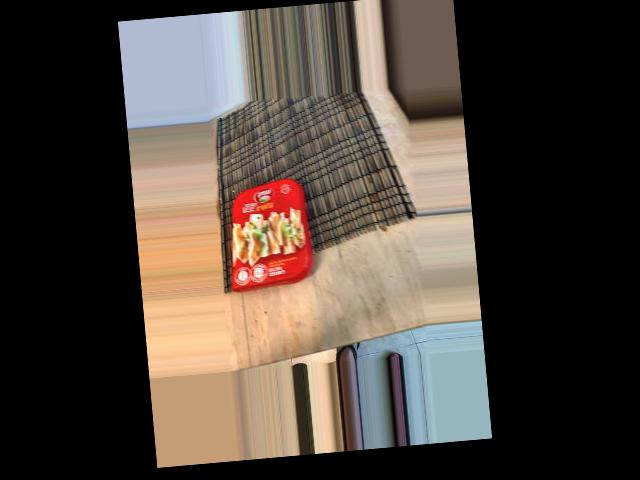cheese: (297, 190, 433, 292)
